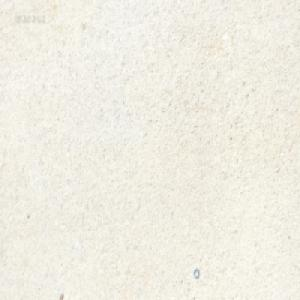Washer: (193, 267, 199, 279)
